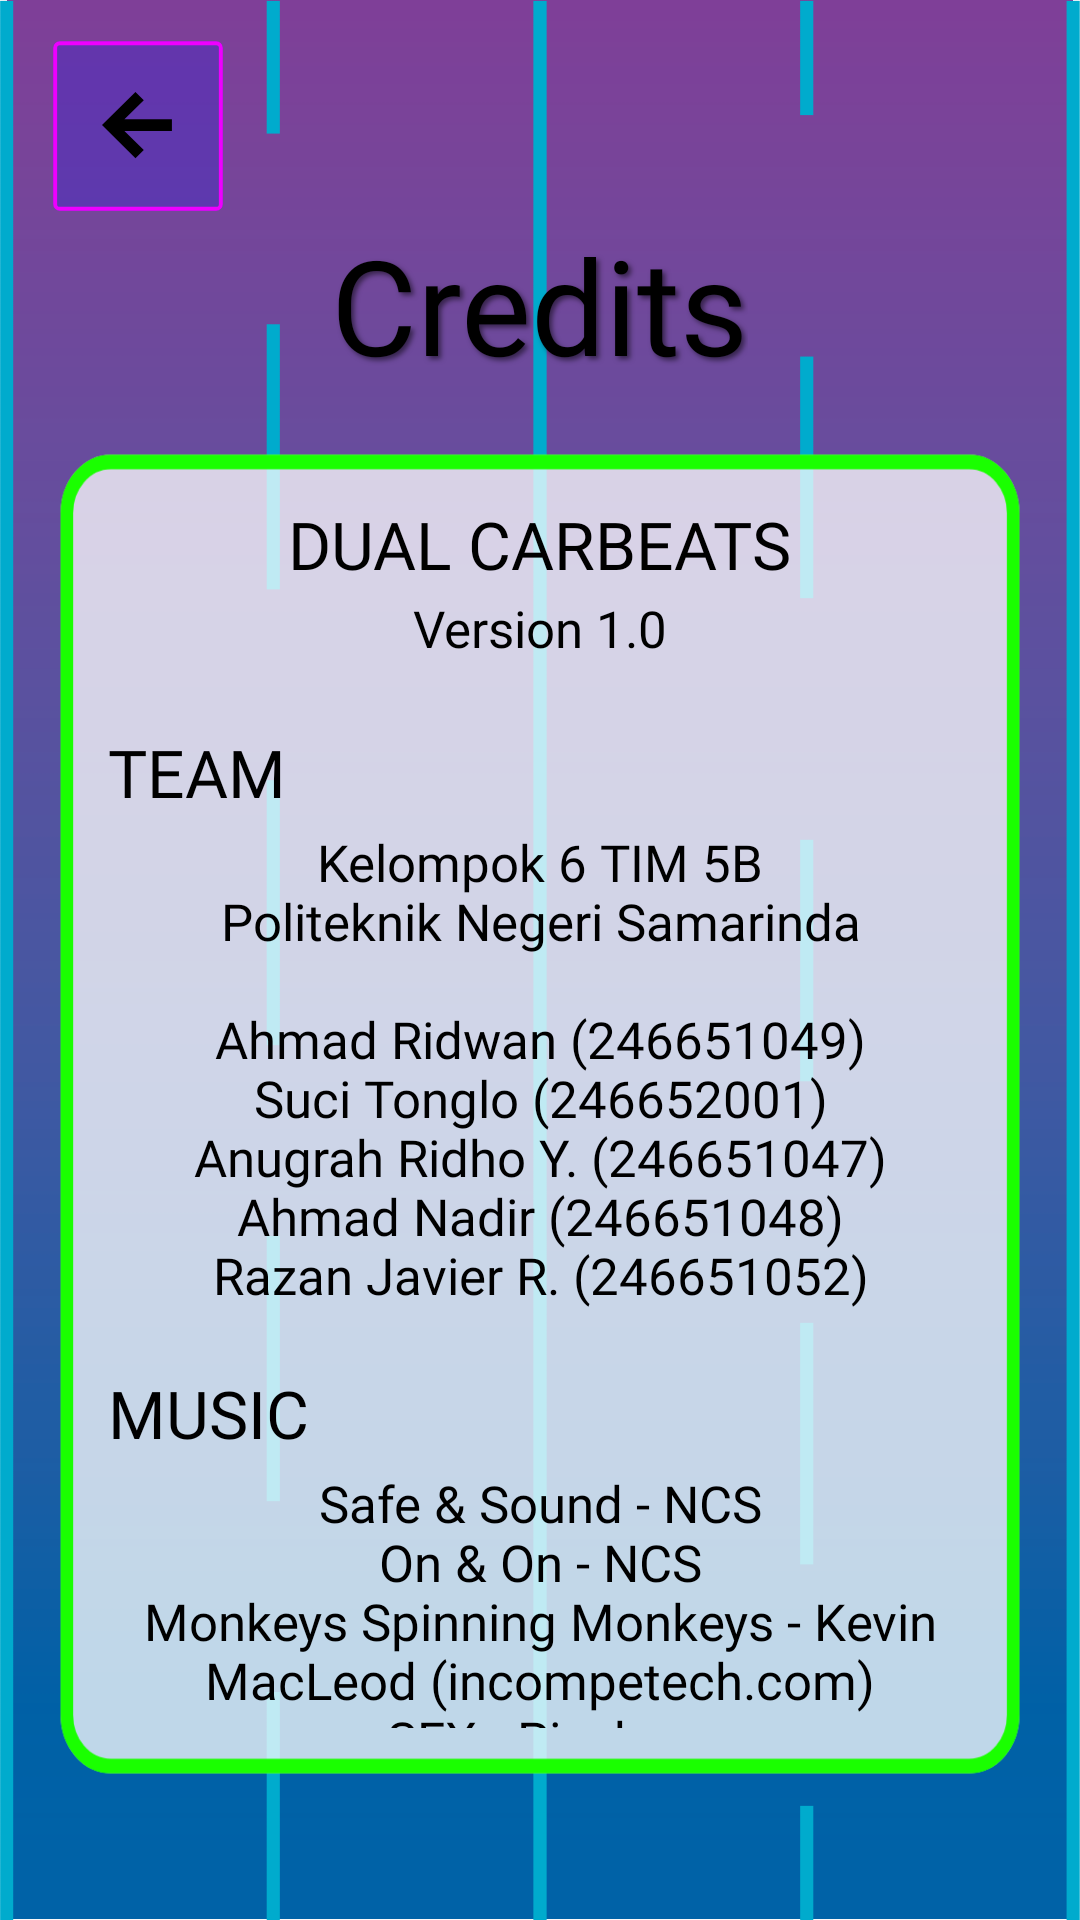

Where icons sit on this 1080 x 1920 app screen, as [x1,y1,x2,y2]:
Back: [53,41,223,211]
